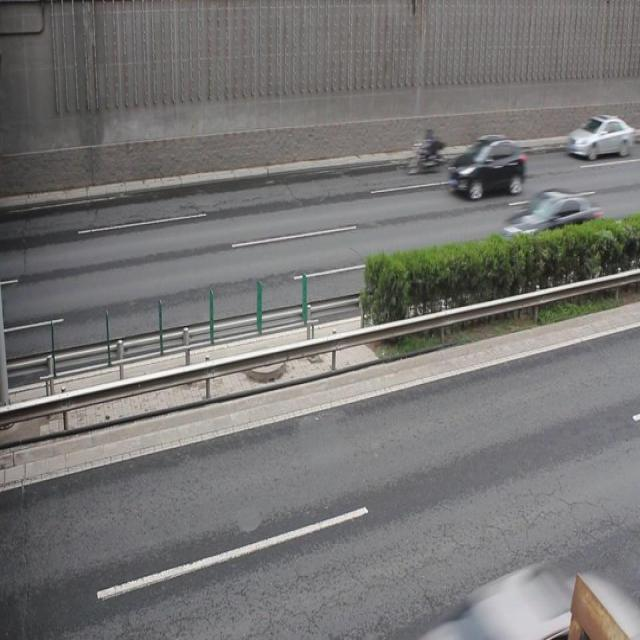car: (448, 565, 601, 640), (501, 187, 598, 261), (448, 133, 526, 201), (564, 114, 629, 160)
